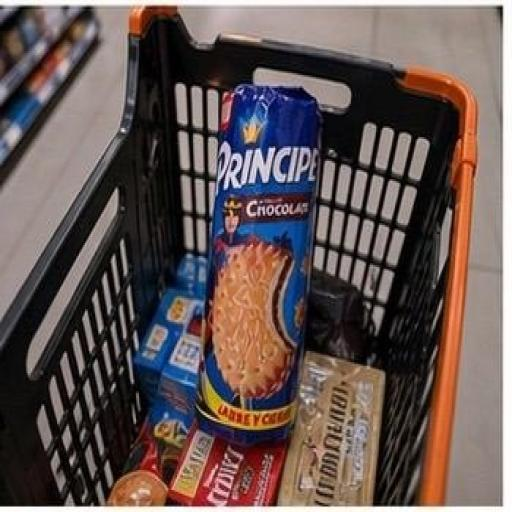prince: (130, 78, 509, 460)
